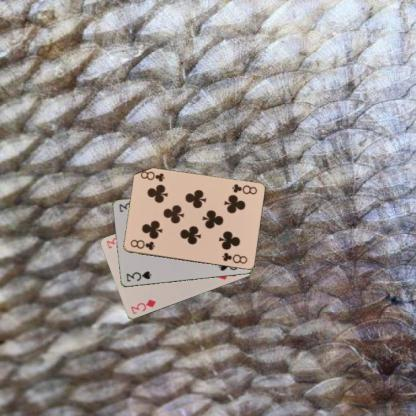3d: (128, 297, 157, 315)
3s: (124, 269, 152, 283)
8c: (230, 181, 258, 196), (128, 237, 156, 251)
